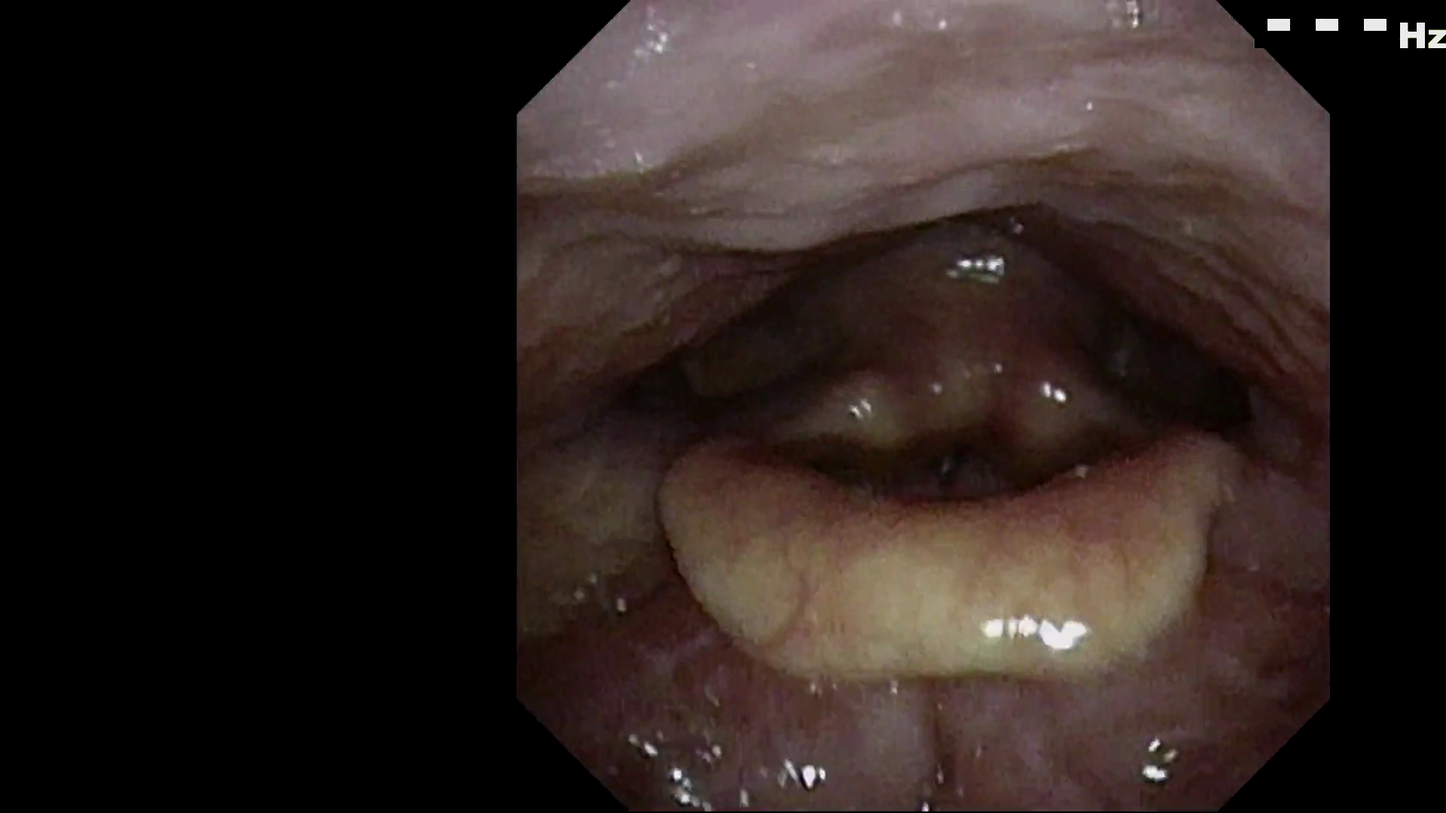epiglottis: (664, 466, 1216, 670)
